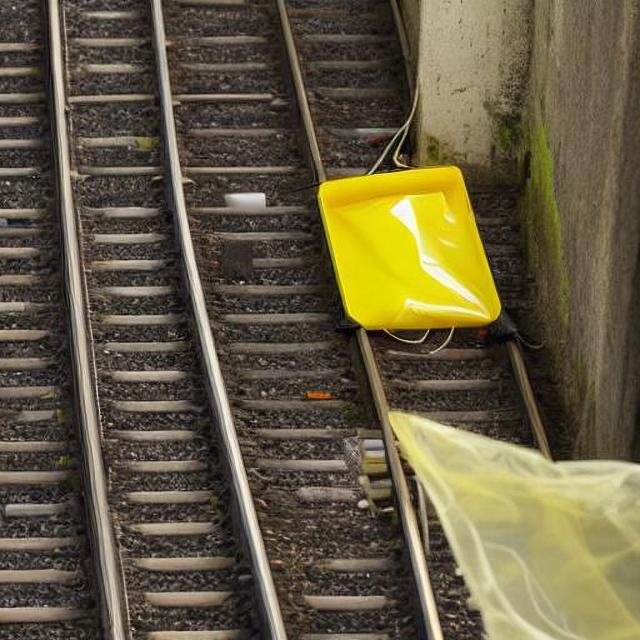floating object: (386, 412, 638, 639), (318, 161, 502, 331)
